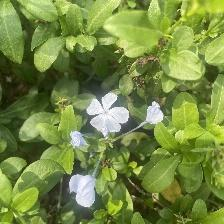chitrak: (87, 92, 128, 139), (69, 174, 102, 209)
